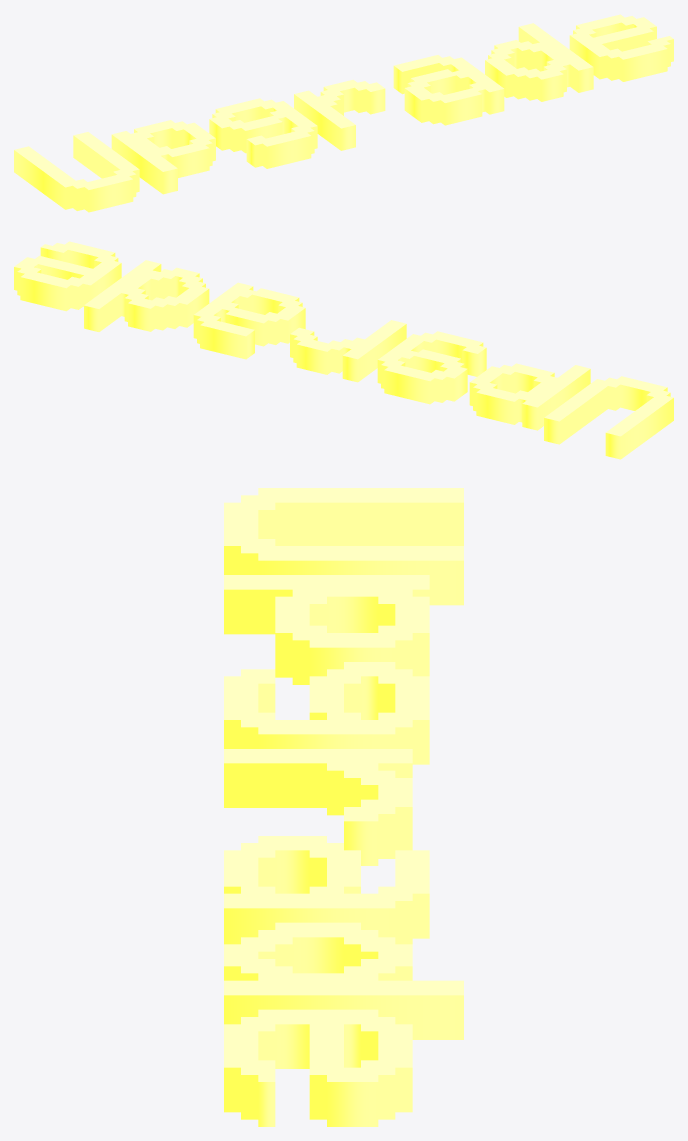
File: upgrade.glb
3 views of the same model, one above another, from view 1: azimuth 30°, elevation 25°; view 2: azimuth 150°, elevation 25°; view 3: azimuth 270°, elevation 25° (orthographic). The views are drawn at different scales.
Parts seen in each view (by area): view 1: cards; view 2: cards; view 3: cards.
Part boxes in pixels (x1,y1,x2,y2): cards: (14, 14, 673, 212); cards: (14, 241, 673, 459); cards: (224, 488, 463, 1126).
Size of the model in its own units: 4.56 by 0.16 by 0.7778.
